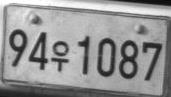0: (96, 36, 116, 77)
1: (73, 35, 94, 75)
4: (27, 31, 48, 70)
7: (141, 41, 163, 81)
8: (118, 38, 139, 80)
9: (7, 27, 27, 67)
우: (50, 39, 69, 72)
